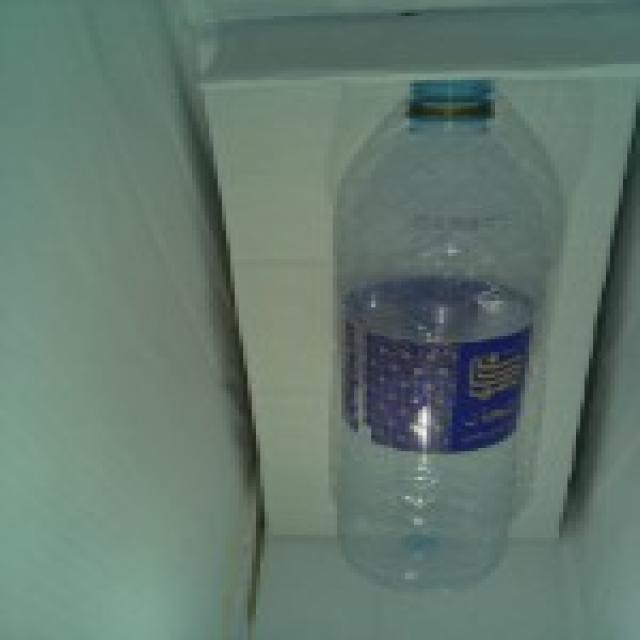trash: (312, 46, 580, 588)
